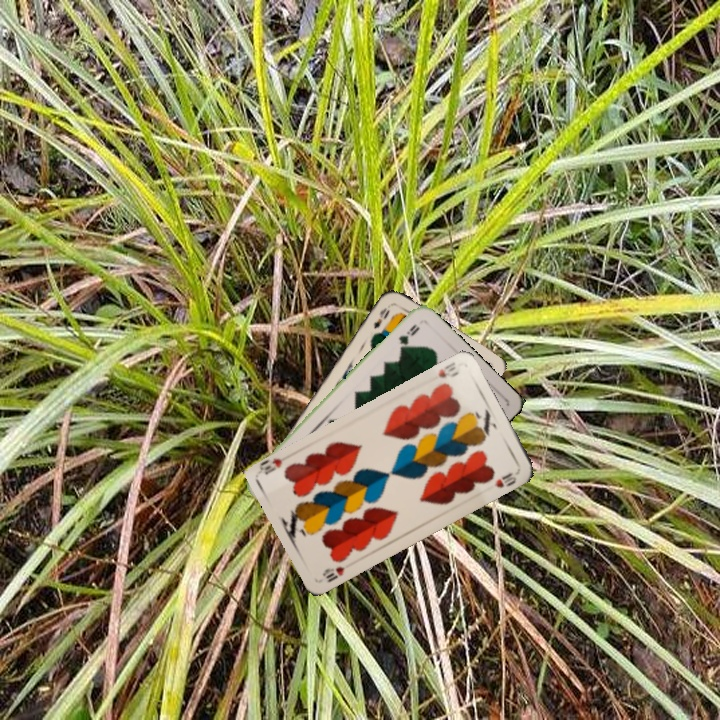EO: (370, 303, 393, 331)
G9: (394, 320, 422, 351)
H10: (318, 562, 348, 585), (434, 358, 462, 381)
